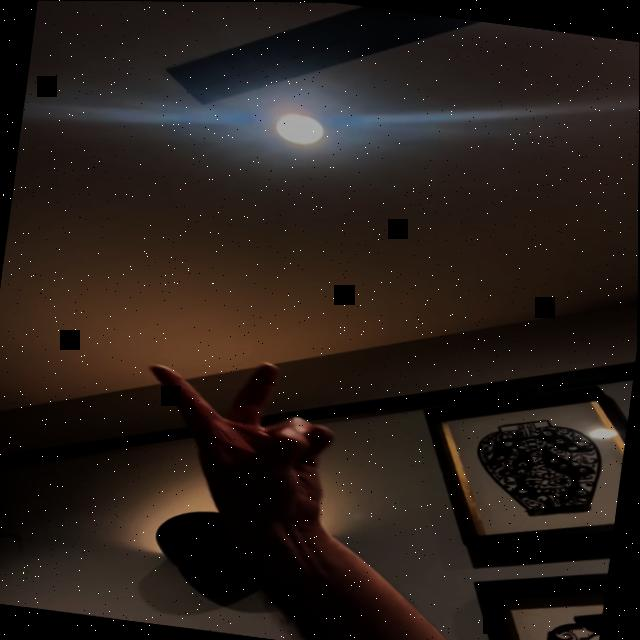Scissors: (130, 344, 347, 529)
